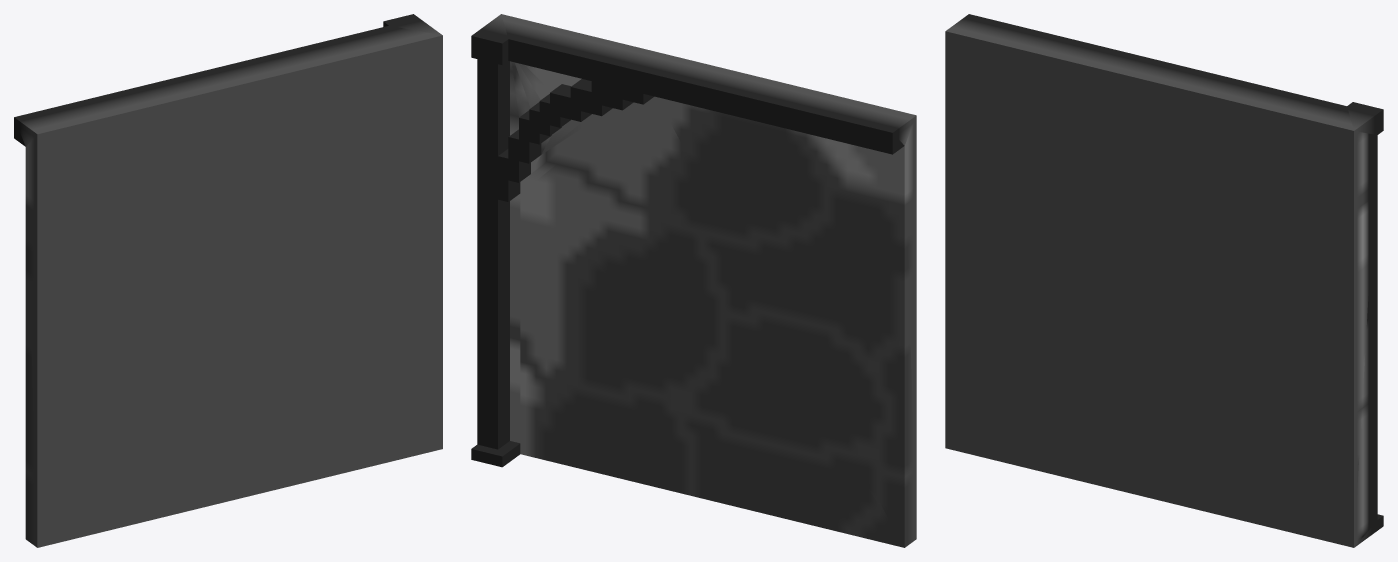
The model's file is WallNether_SL.fbx.
The picture shows the model from 3 angles, left to right: view 1: azimuth 30°, elevation 25°; view 2: azimuth 150°, elevation 25°; view 3: azimuth 330°, elevation 25°; orthographic projection. The views are drawn at different scales.
Parts seen in each view (by area): view 1: WallNether_SL.Merged; view 2: WallNether_SL.Merged; view 3: WallNether_SL.Merged.
Part boxes in pixels (bbox=[...]): WallNether_SL.Merged: bbox=[14, 14, 442, 547]; WallNether_SL.Merged: bbox=[471, 14, 916, 547]; WallNether_SL.Merged: bbox=[945, 14, 1383, 547].
Size of the model in its own units: 8000 by 7800 by 1000.
